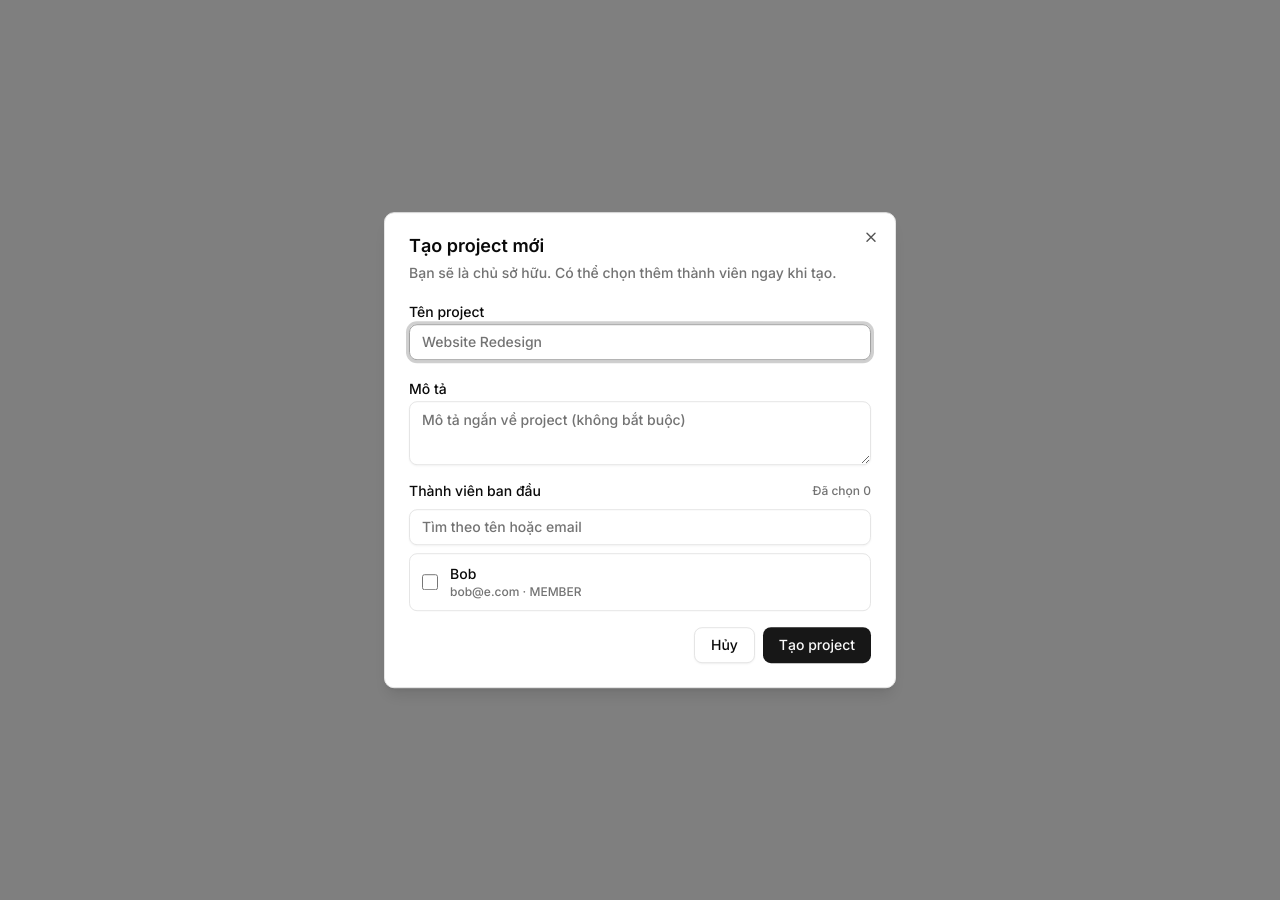
<ProjectFormDialog /> — create mode › blocks submit and shows an error when the name is empty
Click the button "Tạo project": (817, 645) x1=763 y1=627 x2=871 y2=663
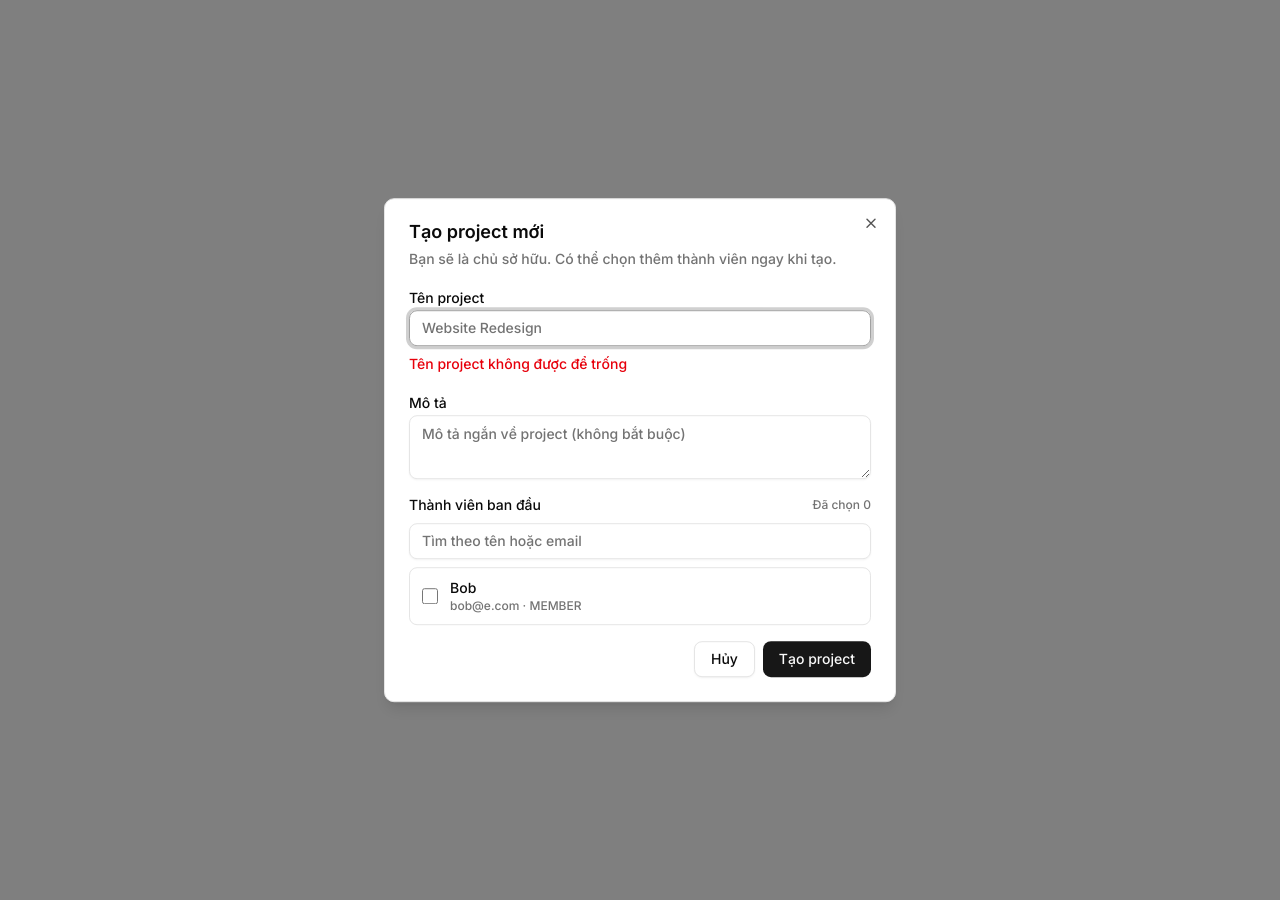
Result: the text "Tên project không được để trống" is shown at x1=409 y1=355 x2=627 y2=372
